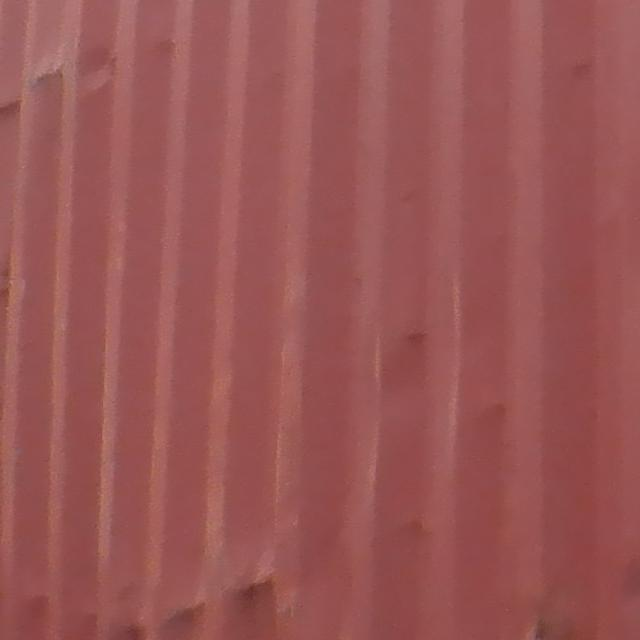dent: (96, 557, 306, 640), (2, 40, 184, 107)
